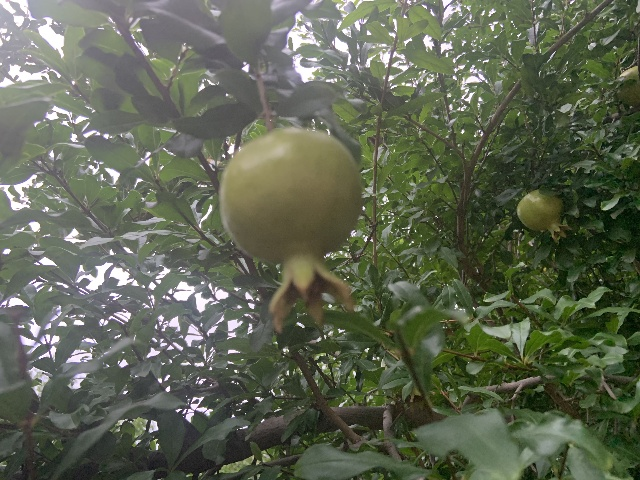mid-growth: (218, 126, 363, 333), (516, 189, 570, 242)
